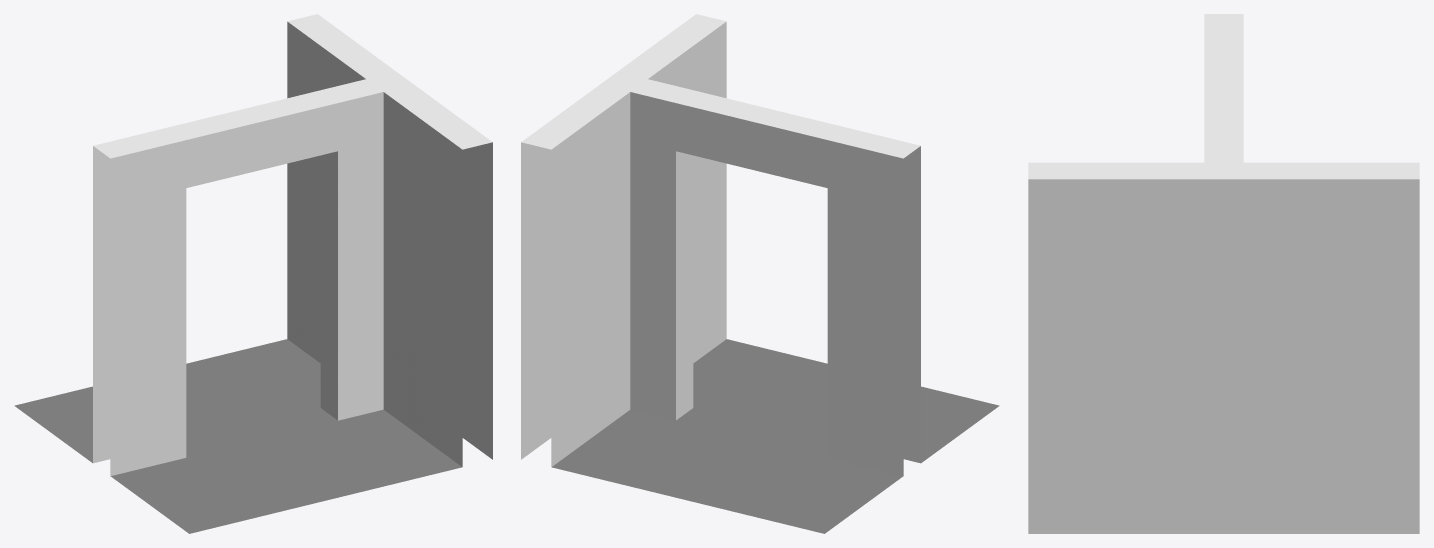
The model's file is E_Wall_T_Shape_Door.fbx.
The picture shows the model from 3 angles, left to right: view 1: azimuth 30°, elevation 25°; view 2: azimuth 150°, elevation 25°; view 3: azimuth 270°, elevation 25°; orthographic projection. The views are drawn at different scales.
Parts seen in each view (by area): view 1: E_Wall_T_Shape_Door; view 2: E_Wall_T_Shape_Door; view 3: E_Wall_T_Shape_Door.
Boxes of the visible parts, x1,y1,x2,y2 form: E_Wall_T_Shape_Door: (14,14,492,533); E_Wall_T_Shape_Door: (521,14,999,533); E_Wall_T_Shape_Door: (1028,14,1419,533).
Bounding box in the file's own units: 200 × 200 × 200.
